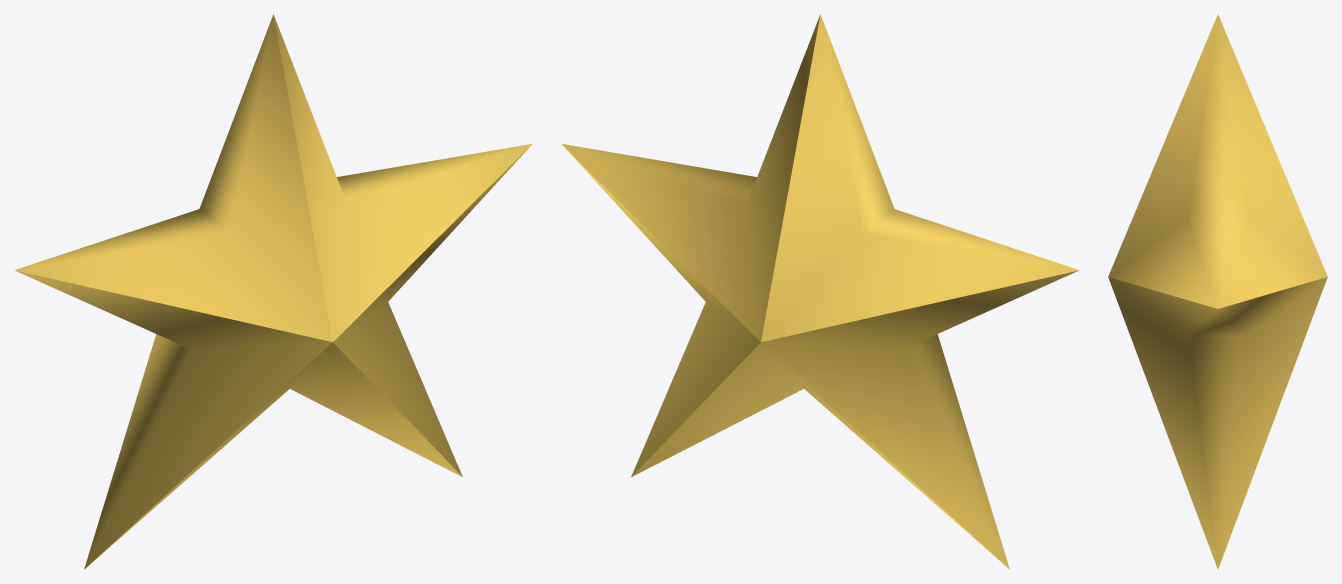
File: Star.glb
3 views of the same model, side by side, from view 1: azimuth 30°, elevation 25°; view 2: azimuth 150°, elevation 25°; view 3: azimuth 270°, elevation 25° (orthographic). The views are drawn at different scales.
Parts seen in each view (by area): view 1: Star; view 2: Star; view 3: Star.
Boxes of the visible parts, x1,y1,x2,y2 form: Star: [14, 14, 531, 569]; Star: [562, 14, 1079, 569]; Star: [1108, 14, 1327, 569].
Size of the model in its own units: 1.02 by 0.9535 by 0.4035.
Materials: 1 (1 with a texture image).
